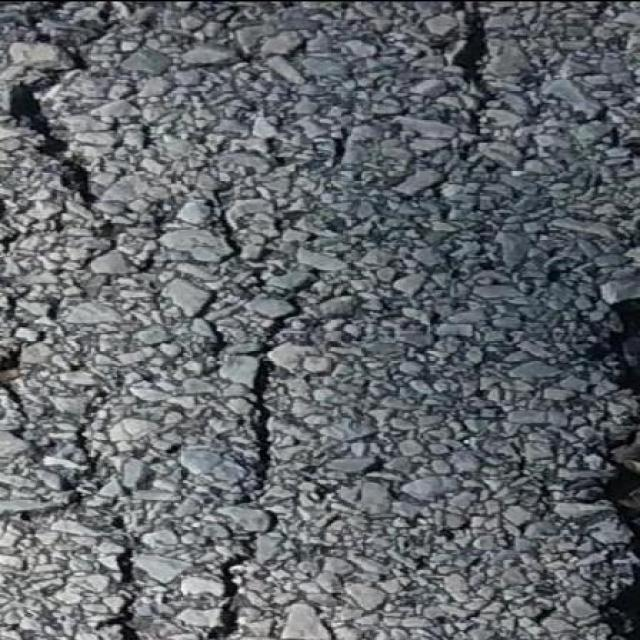Crack: (216, 177, 303, 505), (15, 14, 106, 256), (599, 285, 639, 640), (201, 526, 271, 640), (449, 6, 494, 135), (114, 540, 142, 640)
